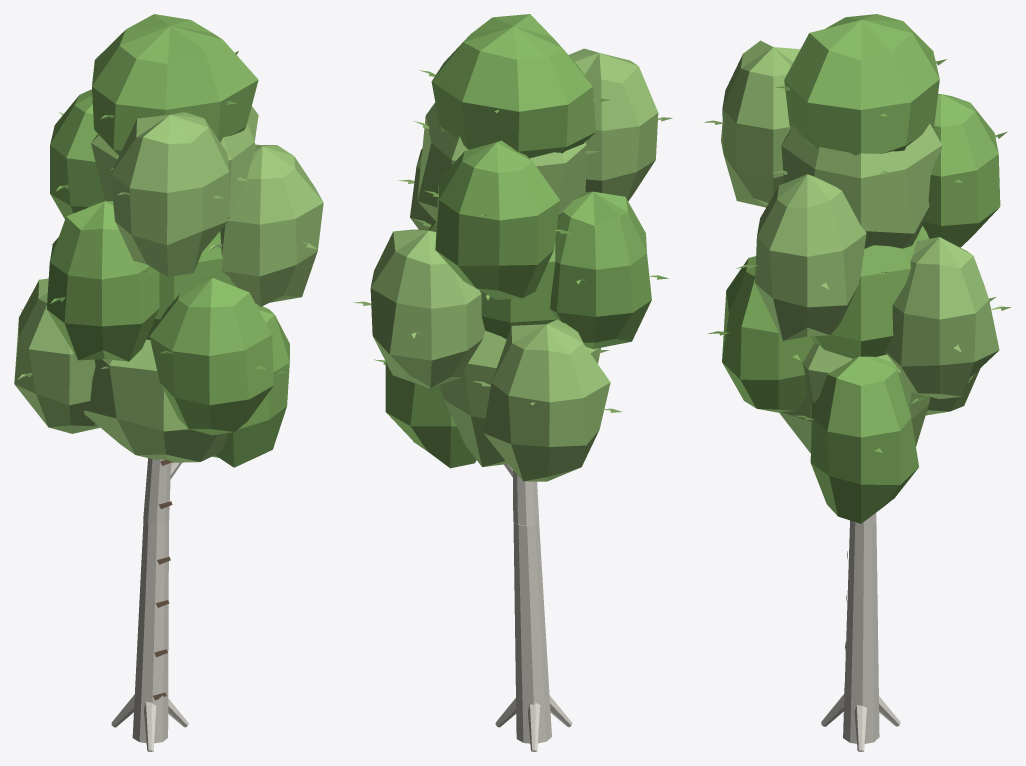
The model's file is Tree_Birch.fbx.
3 views of the same model, side by side, from view 1: azimuth 30°, elevation 25°; view 2: azimuth 150°, elevation 25°; view 3: azimuth 270°, elevation 25° (orthographic). The views are drawn at different scales.
Parts seen in each view (by area): view 1: Tree_Birch; view 2: Tree_Birch; view 3: Tree_Birch.
Boxes of the visible parts, x1,y1,x2,y2 form: Tree_Birch: (14, 14, 323, 751); Tree_Birch: (353, 14, 672, 751); Tree_Birch: (703, 14, 1010, 751).
Bounding box in the file's own units: 233 × 582 × 225.
